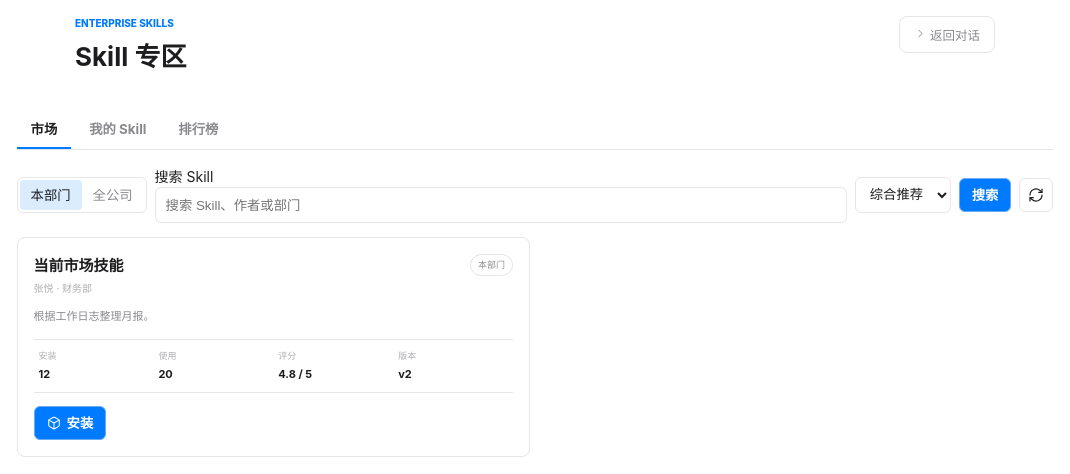
Test case: 切走我的 Skill 后迟到的本机技能和投稿记录不能覆盖市场或污染再次进入的结果
Expected: the heading "当前市场技能" is shown, [34, 254, 124, 278]
Click the button "我的 Skill": (118, 129) [75, 110, 160, 149]
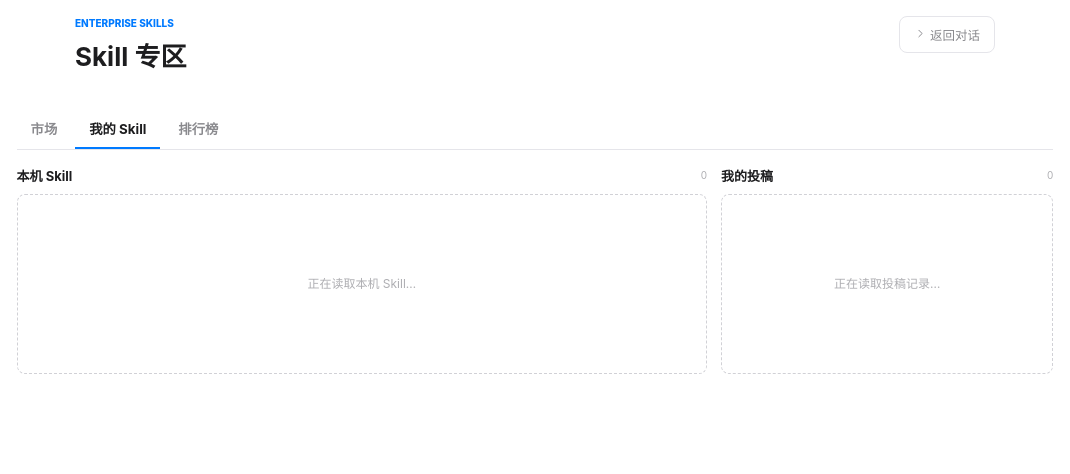
Expected: the text "正在读取本机 Skill…" is shown, [17, 194, 707, 374]
Expected: the text "正在读取投稿记录…" is shown, [721, 194, 1053, 374]
Click the button "市场": (44, 129) [17, 110, 71, 149]
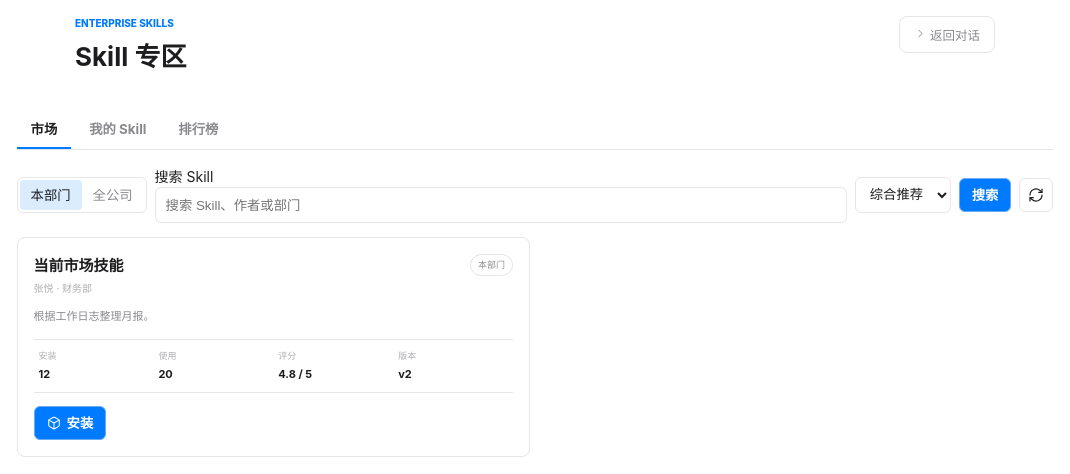
Expected: the heading "当前市场技能" is shown, [34, 254, 124, 278]
Click the button "我的 Skill": (118, 129) [75, 110, 160, 149]
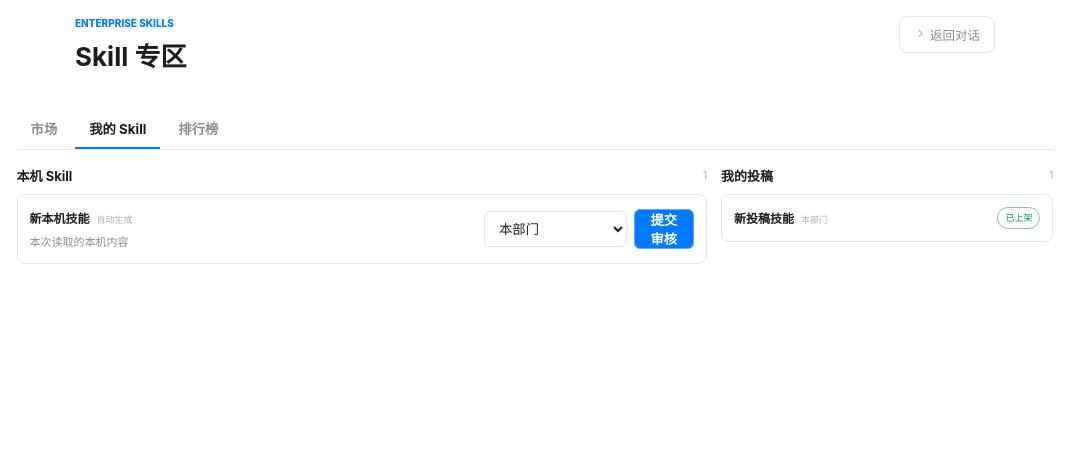
Expected: the text "新本机技能" is shown, [30, 210, 90, 228]
Expected: the text "新投稿技能" is shown, [734, 210, 794, 228]
